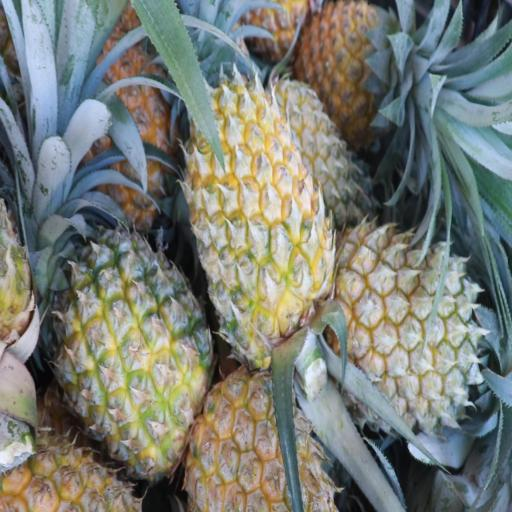------------------------------: (52, 220, 222, 488)
Pineapple - v8 v1: (174, 32, 338, 378), (336, 219, 508, 439), (308, 4, 447, 154)
